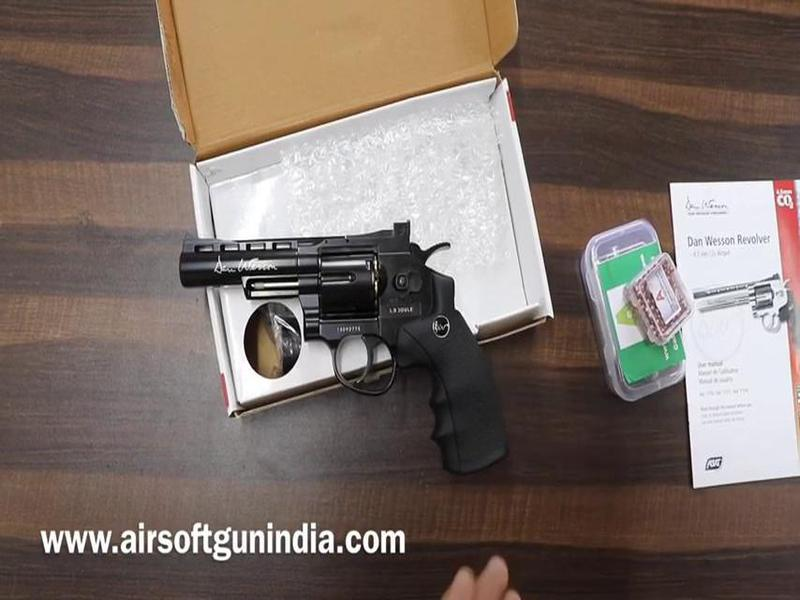Revolver: (168, 209, 492, 421)
